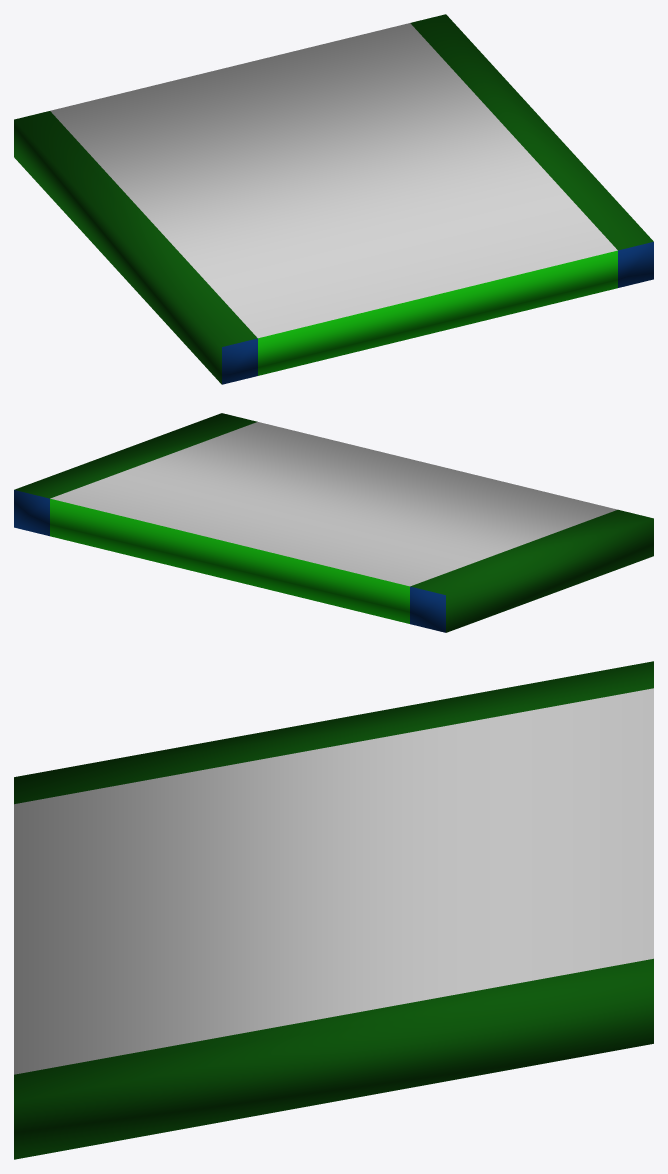
Rendered from Down.fbx.
3 renders of one model, top to bottom at view 1: azimuth 30°, elevation 25°; view 2: azimuth 150°, elevation 25°; view 3: azimuth 270°, elevation 25°, orthographic. The views are drawn at different scales.
Visible parts, largest first — view 1: Mesh; view 2: Mesh; view 3: Mesh.
Part boxes in pixels (x1,y1,x2,y2): Mesh: [14, 14, 653, 384]; Mesh: [14, 413, 653, 632]; Mesh: [14, 661, 653, 1159].
Size of the model in its own units: 12000 by 3000 by 10000.
